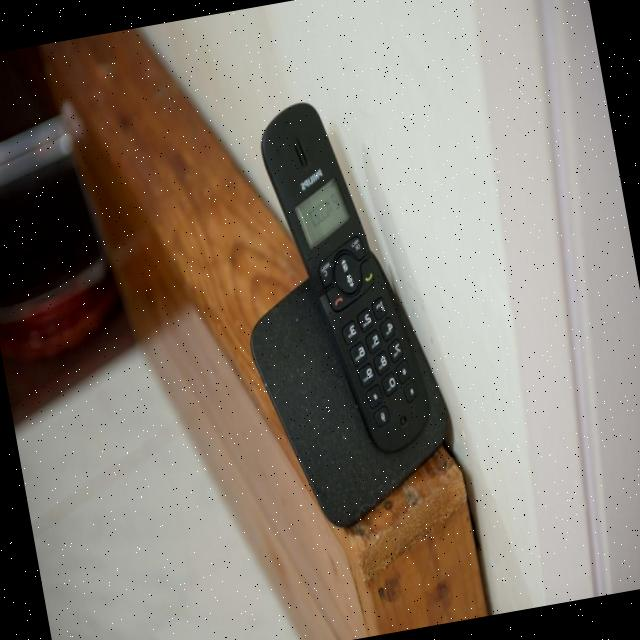Phone: (212, 86, 464, 538)
